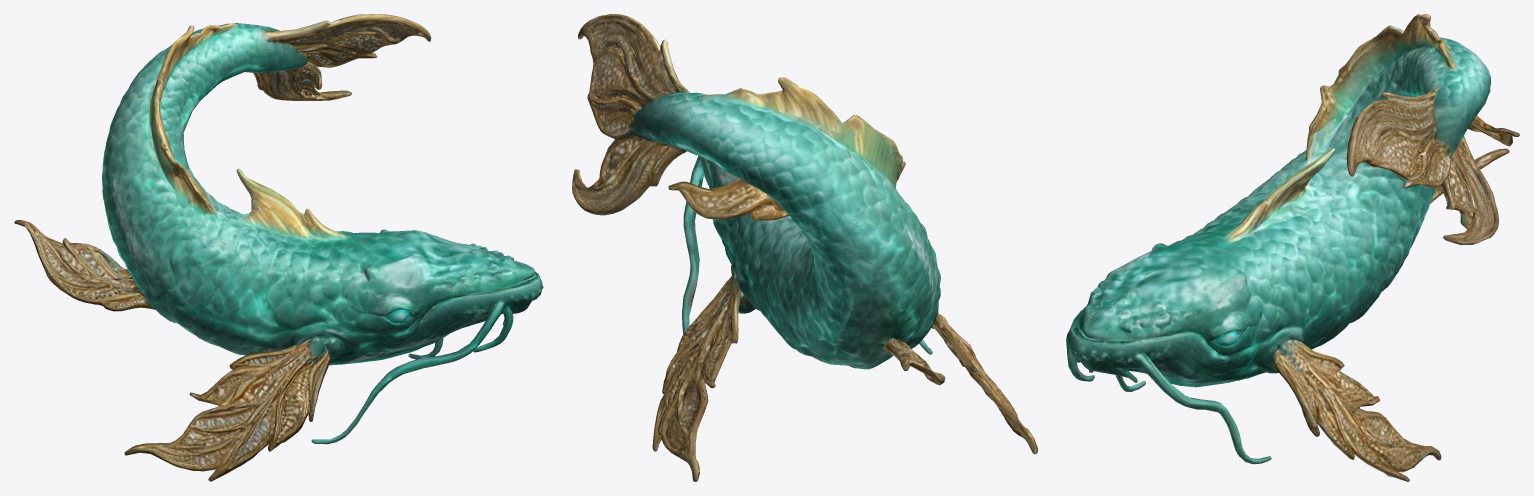
File: shanhai-kun.glb
3 renders of one model, left to right at view 1: azimuth 30°, elevation 25°; view 2: azimuth 150°, elevation 25°; view 3: azimuth 270°, elevation 25°, orthographic. The views are drawn at different scales.
Visible parts, largest first — view 1: geometry_0; view 2: geometry_0; view 3: geometry_0.
Boxes of the visible parts, left/top/right/bottom form: geometry_0: left=14, top=14, right=543, bottom=481; geometry_0: left=572, top=14, right=1037, bottom=481; geometry_0: left=1066, top=14, right=1519, bottom=481.
Size of the model in its own units: 0.1798 by 0.1764 by 0.178.
Materials: 1 (1 with a texture image).
